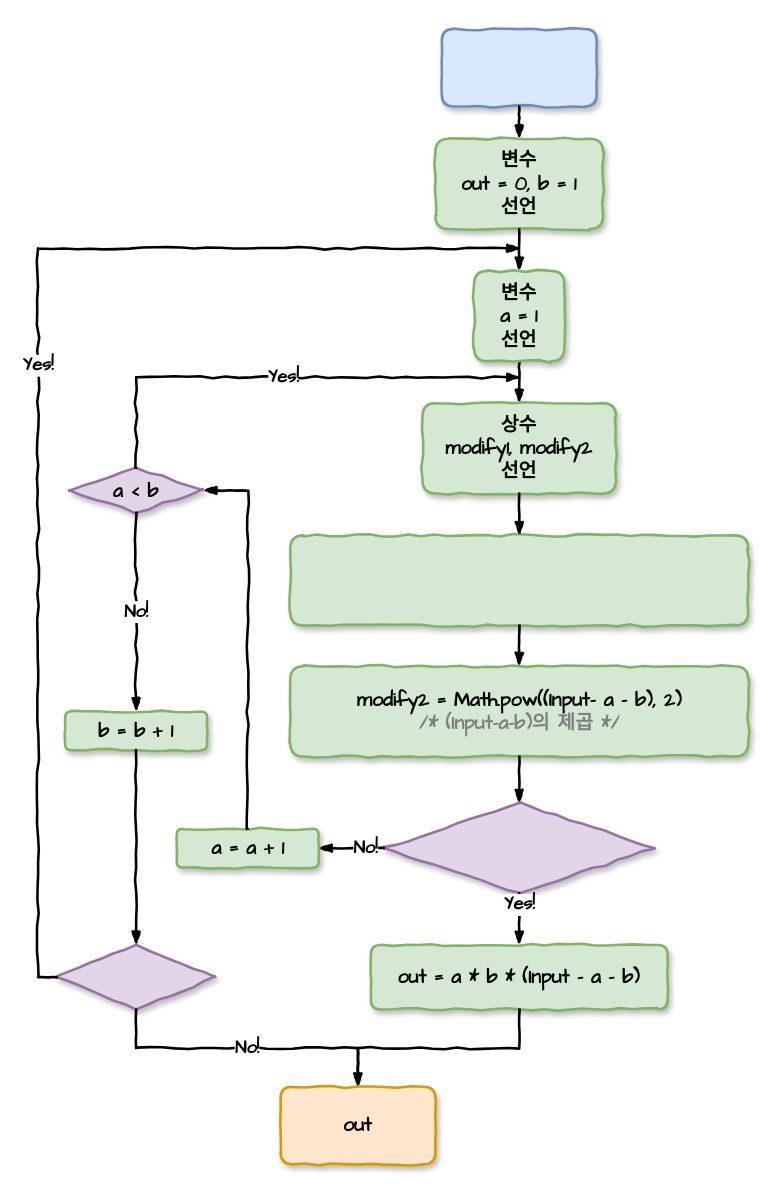
This 779x1196 diagram has some shape labels left out. Each missing label, with the centre of its shape:
b < Input: the point at 137,978
Input: the point at 520,69
modify1 = Math.pow(a, 2 ) + Math.pow(b, 2 ) /* a의 제곱과 b의 제곱의 합 */: the point at 520,581
modify1 === modify2: the point at 520,849
